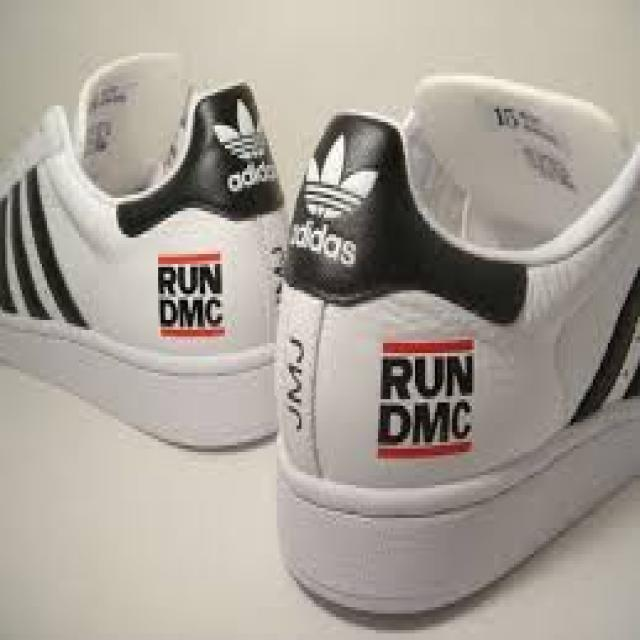shoe: (269, 59, 640, 618), (0, 63, 294, 449)
